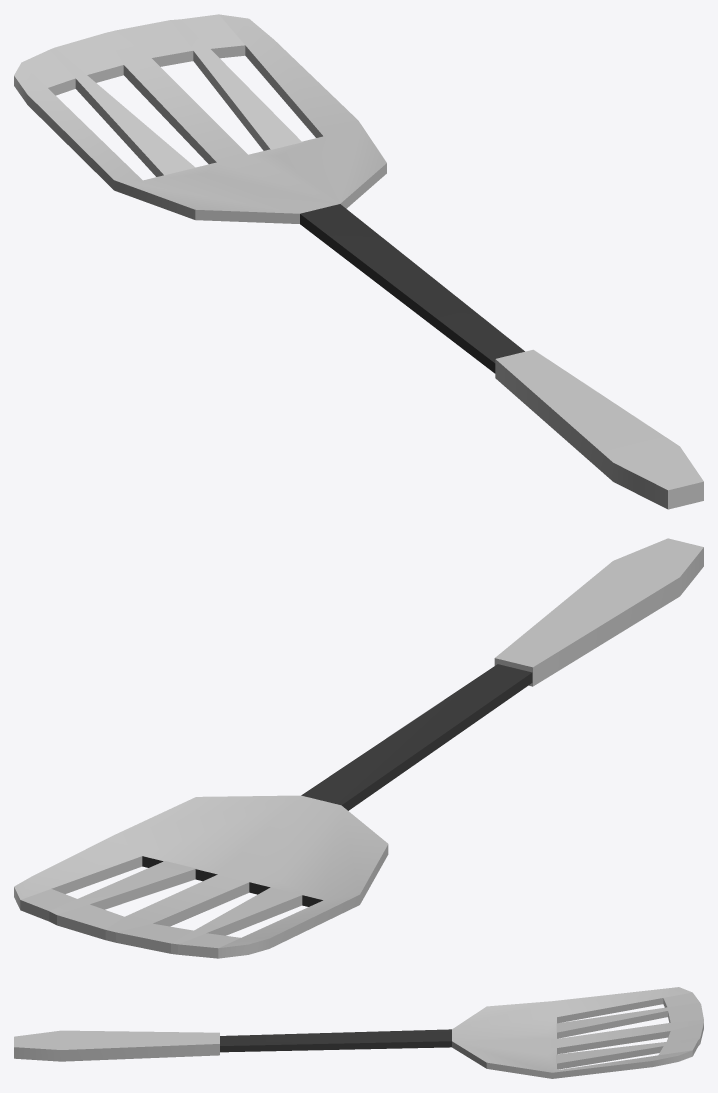
The model's file is Spatula_2.FBX.
3 renders of one model, top to bottom at view 1: azimuth 30°, elevation 25°; view 2: azimuth 150°, elevation 25°; view 3: azimuth 270°, elevation 25°, orthographic. The views are drawn at different scales.
Visible parts, largest first — view 1: Spatula; view 2: Spatula; view 3: Spatula.
Part boxes in pixels (x1,y1,x2,y2): Spatula: (14,14,703,509); Spatula: (14,538,703,958); Spatula: (14,987,703,1078).
Size of the model in its own units: 24.64 by 5.11 by 100.
